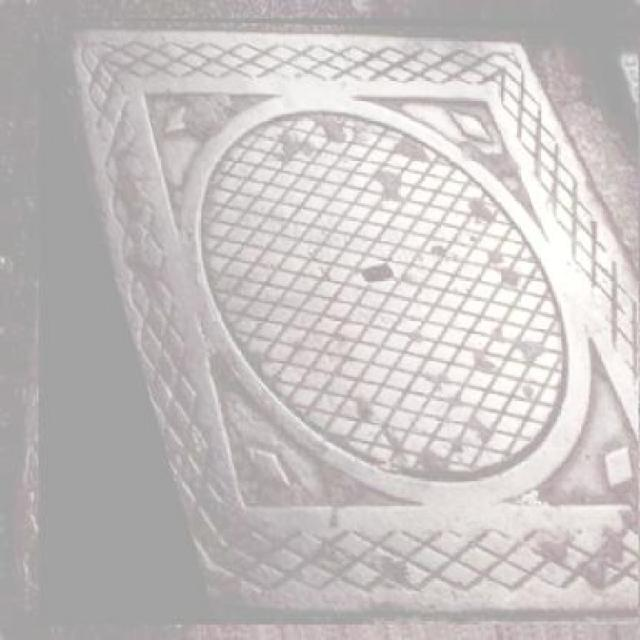Manhole: (39, 18, 638, 624)
